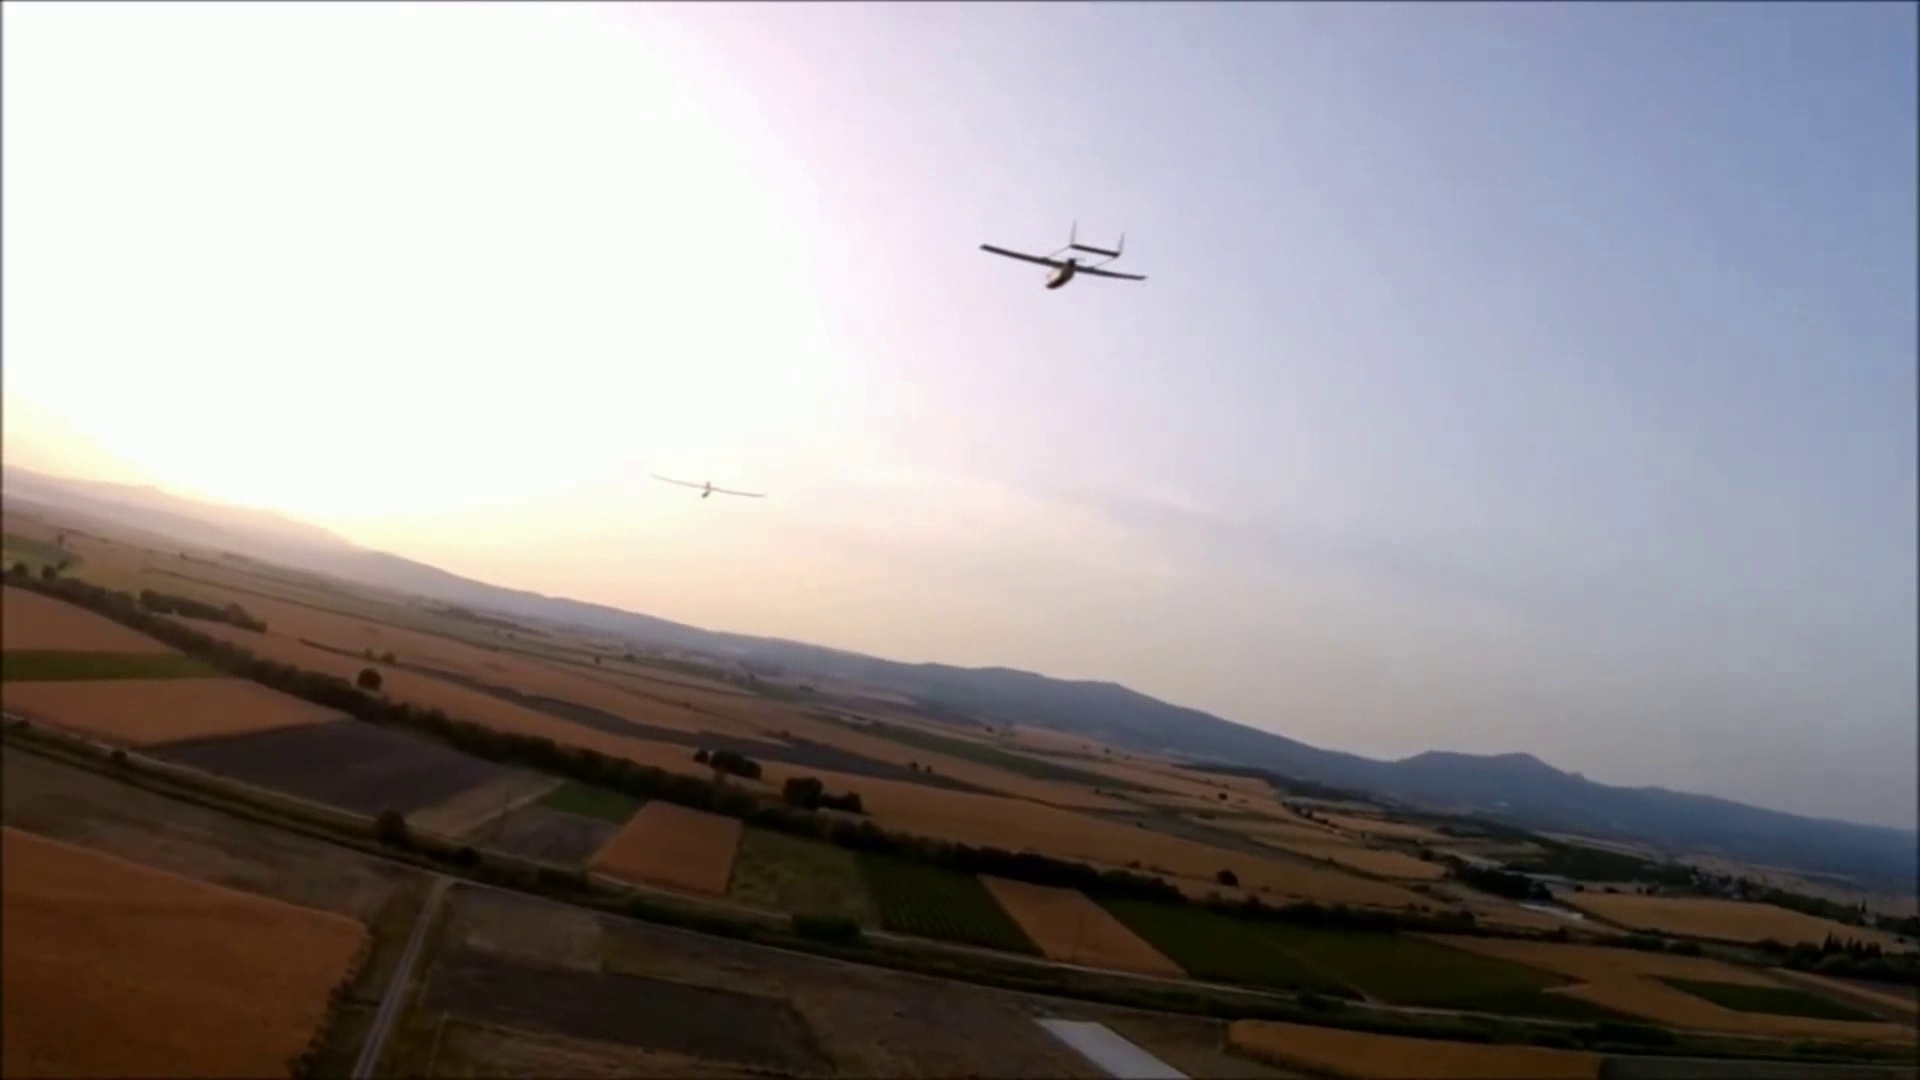airplane: (4, 381, 1897, 934), (976, 219, 1152, 290), (648, 471, 768, 502)
